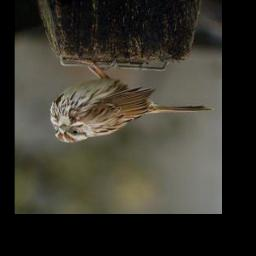Sparrow: (49, 59, 212, 144)
